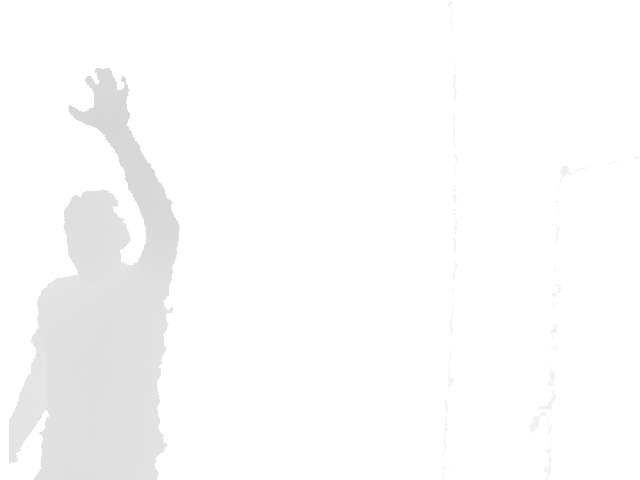hand: (66, 66, 132, 130)
head: (62, 190, 132, 274)
person: (9, 65, 182, 479)
